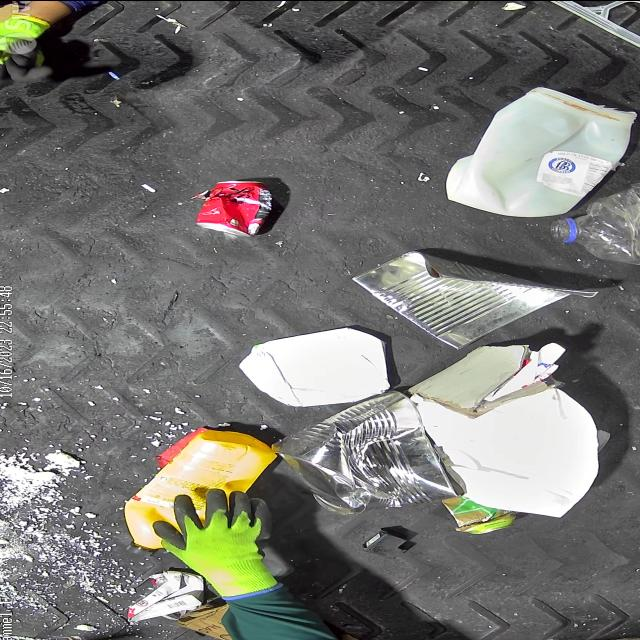can: (270, 390, 464, 514), (195, 180, 272, 237)
milk_jug: (446, 86, 638, 217)
non_white_jug: (126, 428, 280, 554)
plastic_bottle: (551, 178, 640, 264)
